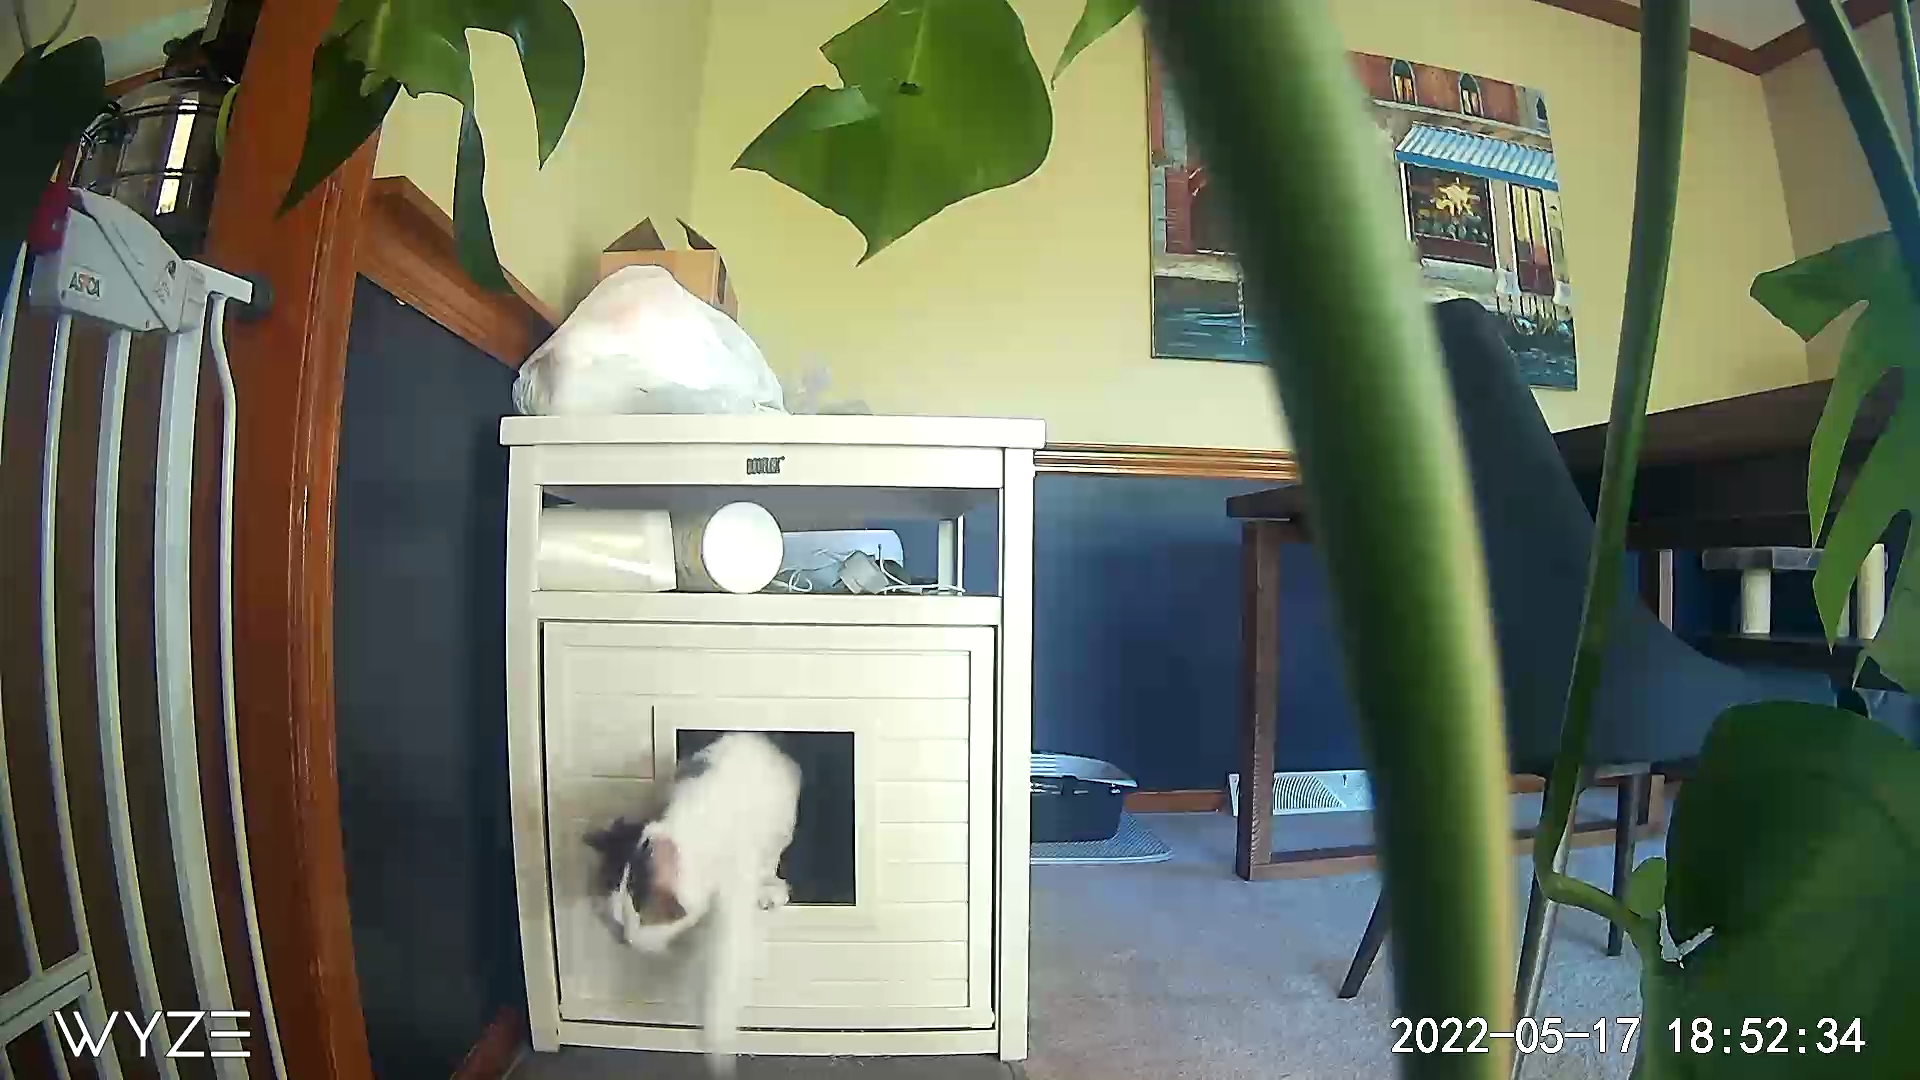maoxin: (563, 738, 808, 1058)
